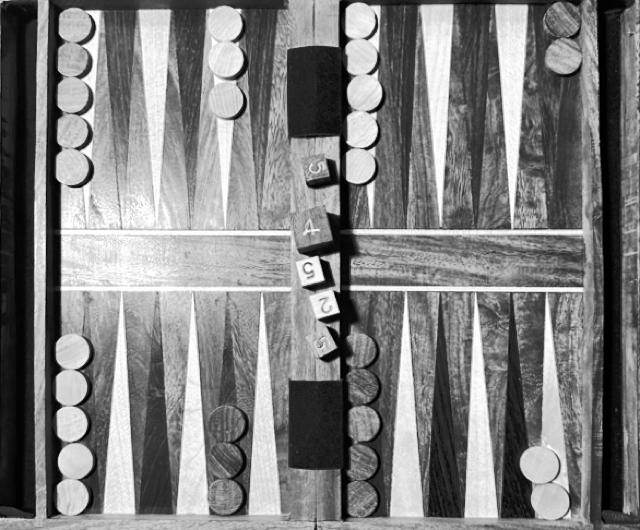bar: (294, 5, 342, 518)
board: (43, 0, 595, 530)
dark_p: (542, 1, 587, 42), (207, 403, 249, 446), (53, 5, 98, 45), (339, 478, 382, 519), (545, 36, 586, 79), (340, 367, 384, 406), (343, 404, 385, 444), (206, 443, 249, 482), (205, 478, 248, 517), (51, 150, 95, 188), (337, 332, 381, 370), (339, 443, 382, 481), (53, 76, 94, 115), (52, 42, 95, 79), (53, 113, 95, 149)
dice: (286, 205, 338, 252), (304, 325, 342, 363), (292, 252, 330, 288), (299, 152, 335, 189), (305, 288, 344, 322)
light_p: (50, 403, 95, 446), (517, 445, 565, 485), (528, 482, 574, 522), (50, 477, 93, 519), (205, 82, 250, 122), (337, 148, 382, 188), (338, 39, 385, 77), (50, 368, 94, 408), (337, 1, 382, 40), (52, 332, 97, 371), (202, 4, 247, 42), (56, 442, 100, 480), (344, 74, 385, 113), (339, 111, 381, 149), (205, 41, 248, 78)
